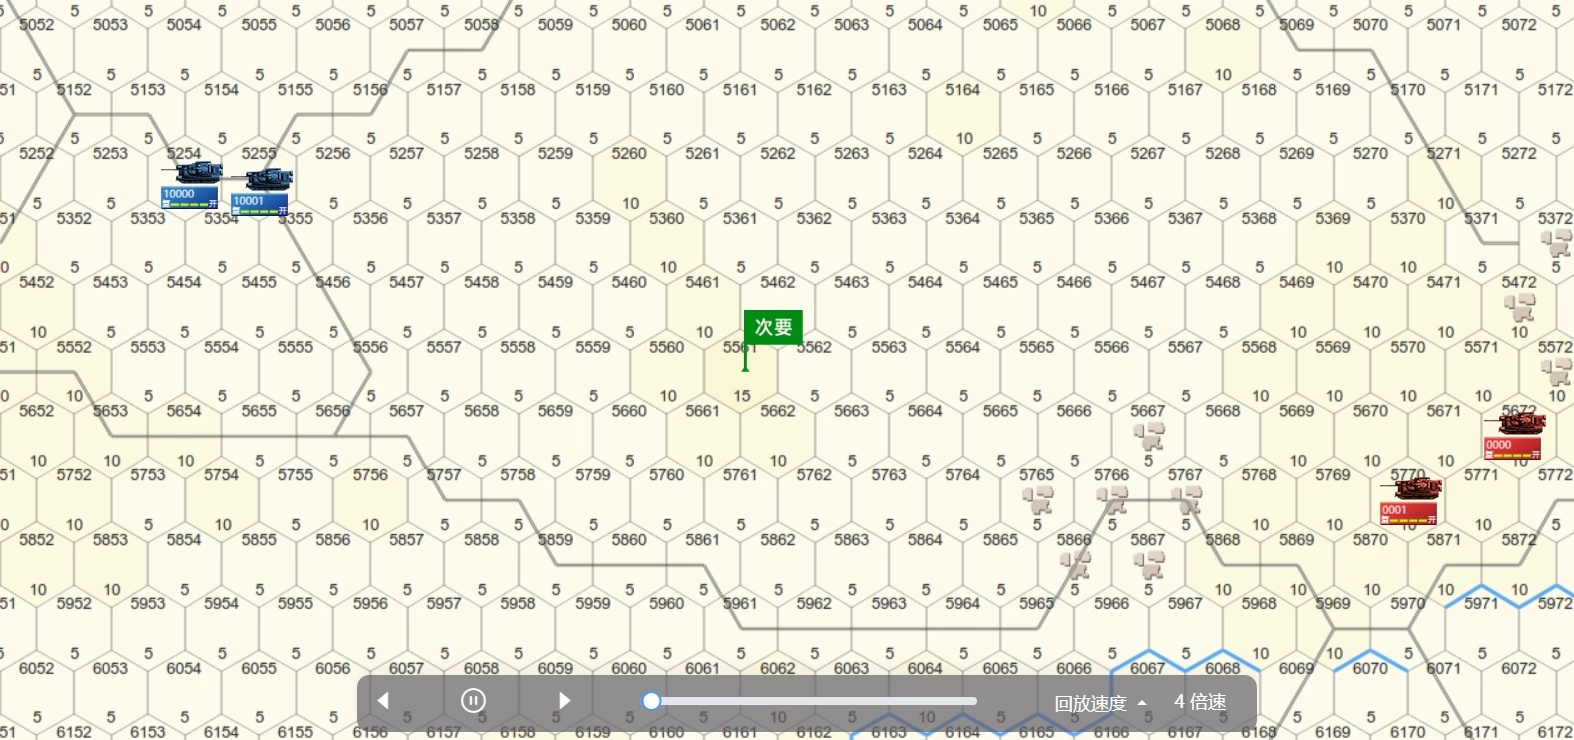blue_tank: (159, 155, 221, 208), (234, 169, 297, 221)
red_tank: (1384, 476, 1444, 516), (1487, 413, 1545, 451)
